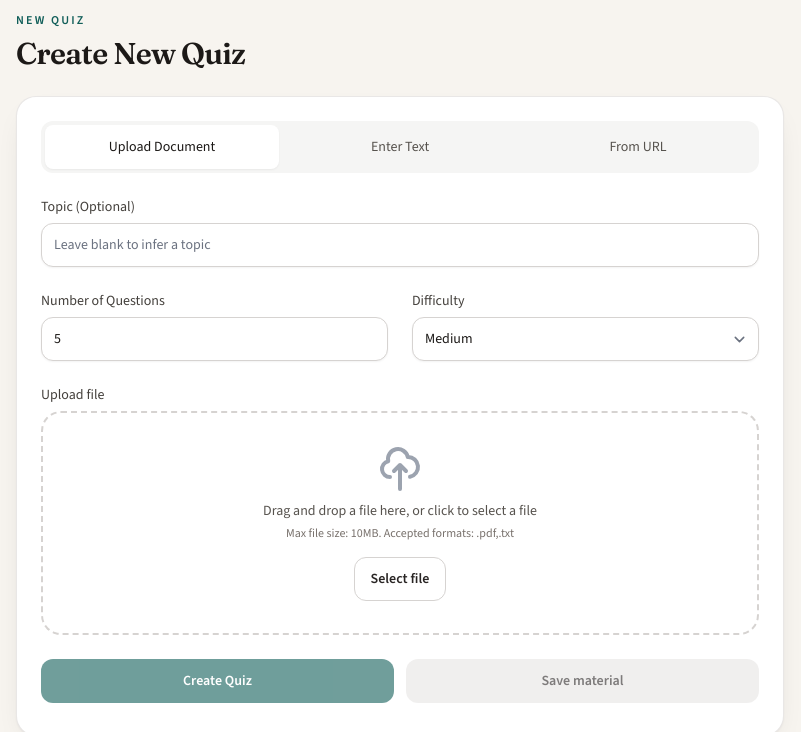
Test: CreateQuiz › shows validation error when trying to submit without text
The image size is (801, 732).
Click the text "Enter Text" at (400, 146), box [371,137,429,156]
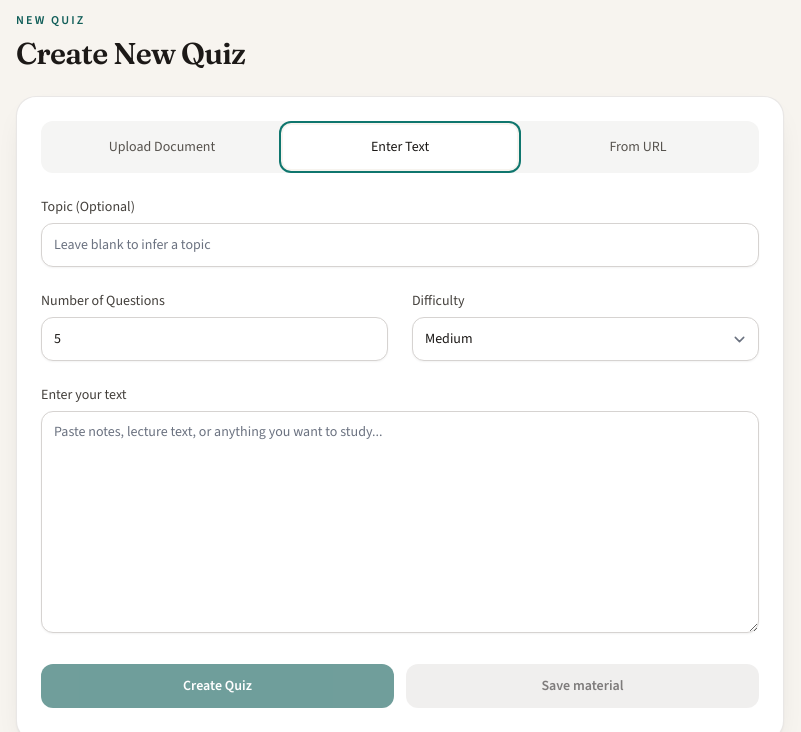
Submit the form
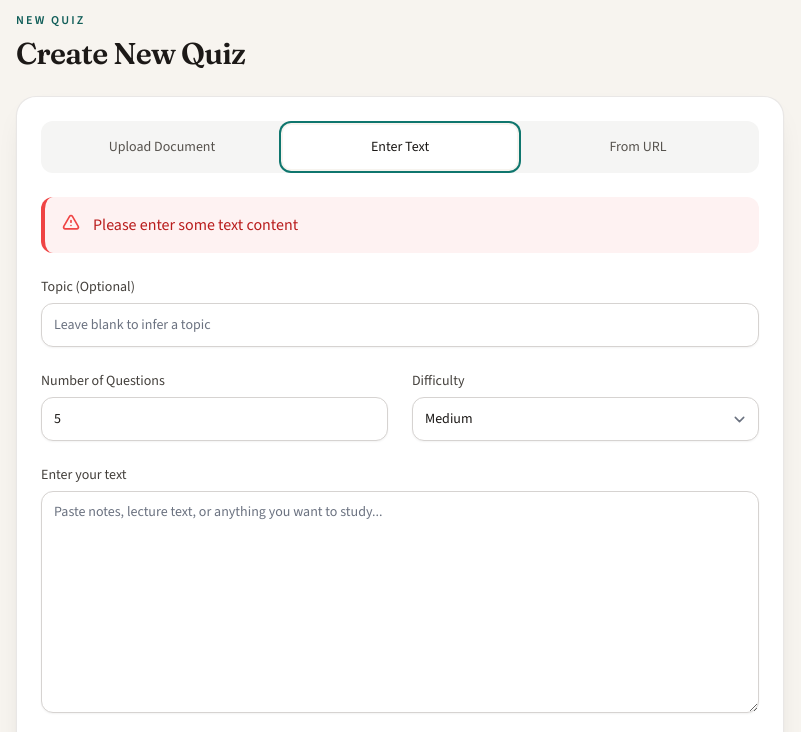
Check: the text "Please enter some text content" is shown, box [93,213,298,237]
